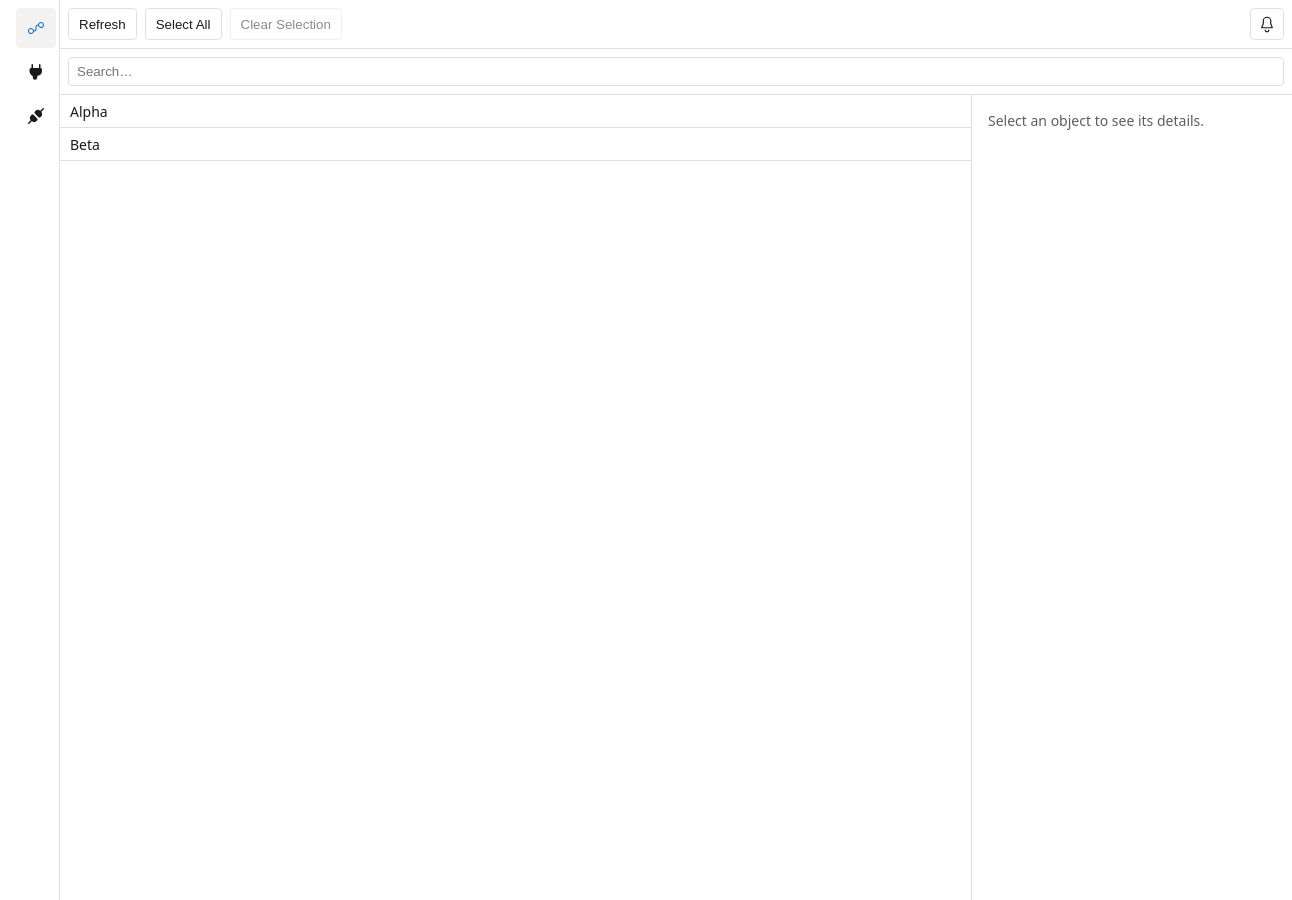
Test: Shell › narrows the list with the search box (US5)
Expected: the text "Alpha" is shown, [70, 102, 108, 120]
In the search field labelled "Search": [676, 72] box [68, 57, 1284, 86], type "alp"
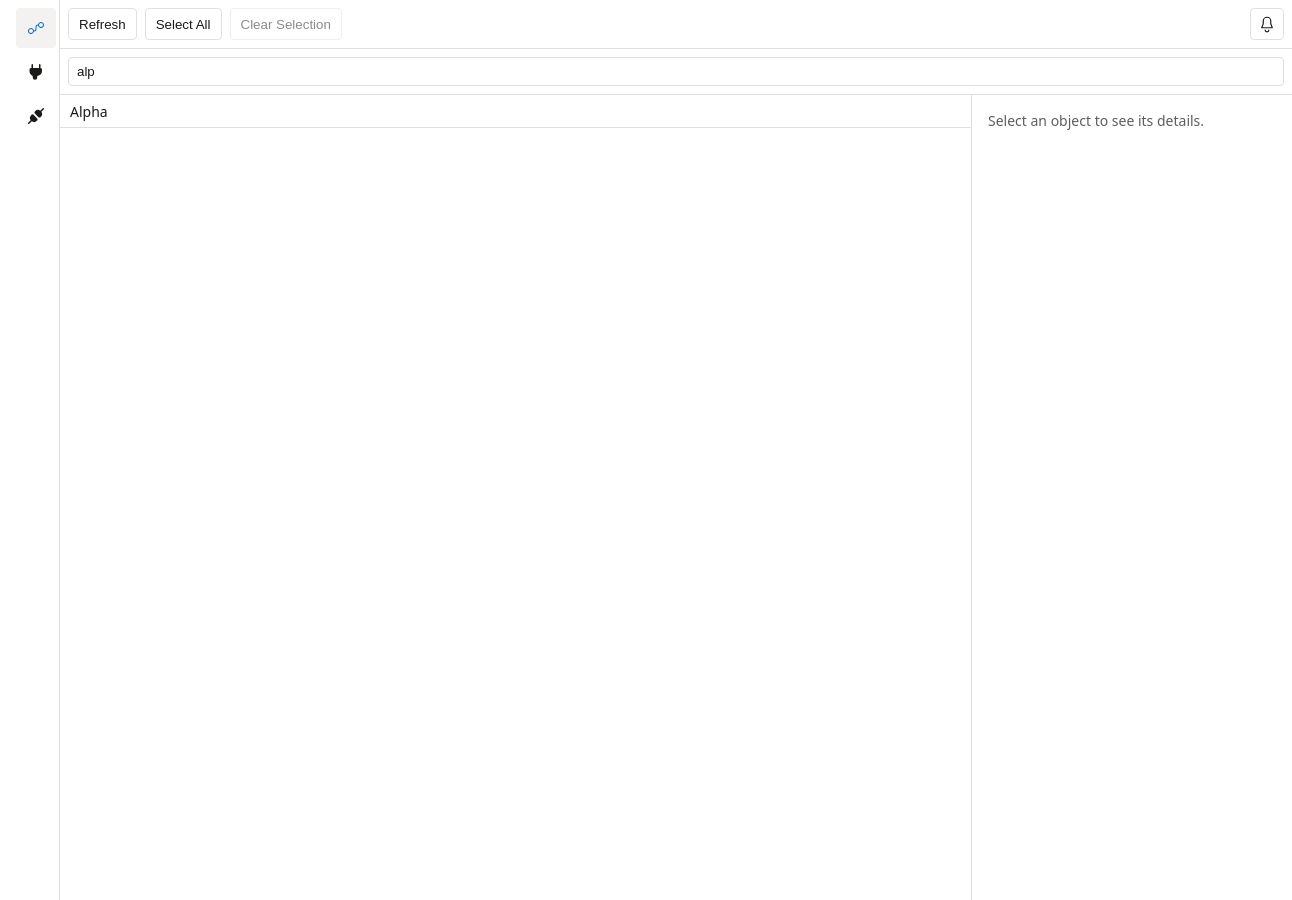
Expected: the text "Alpha" is shown, [70, 102, 108, 120]
Expected: the option "Beta" is gone
